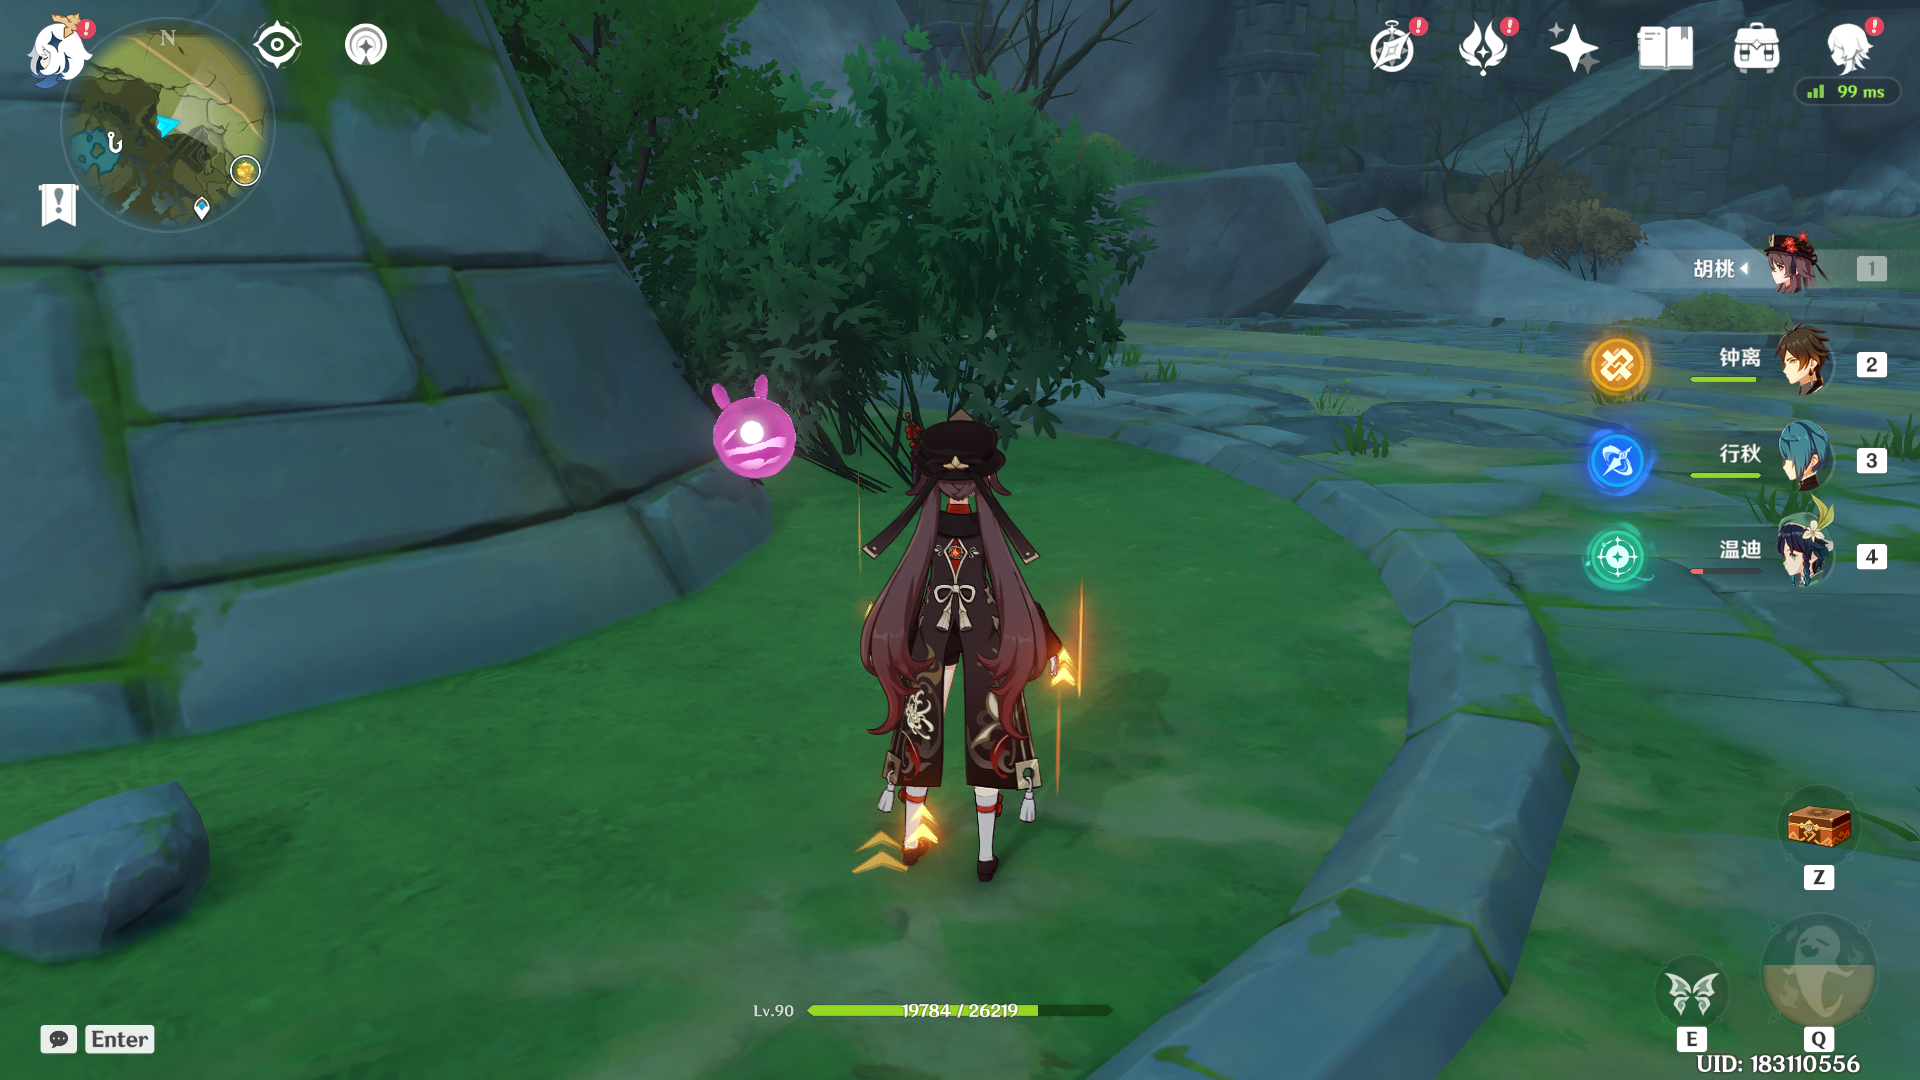character: (791, 405, 1129, 898)
